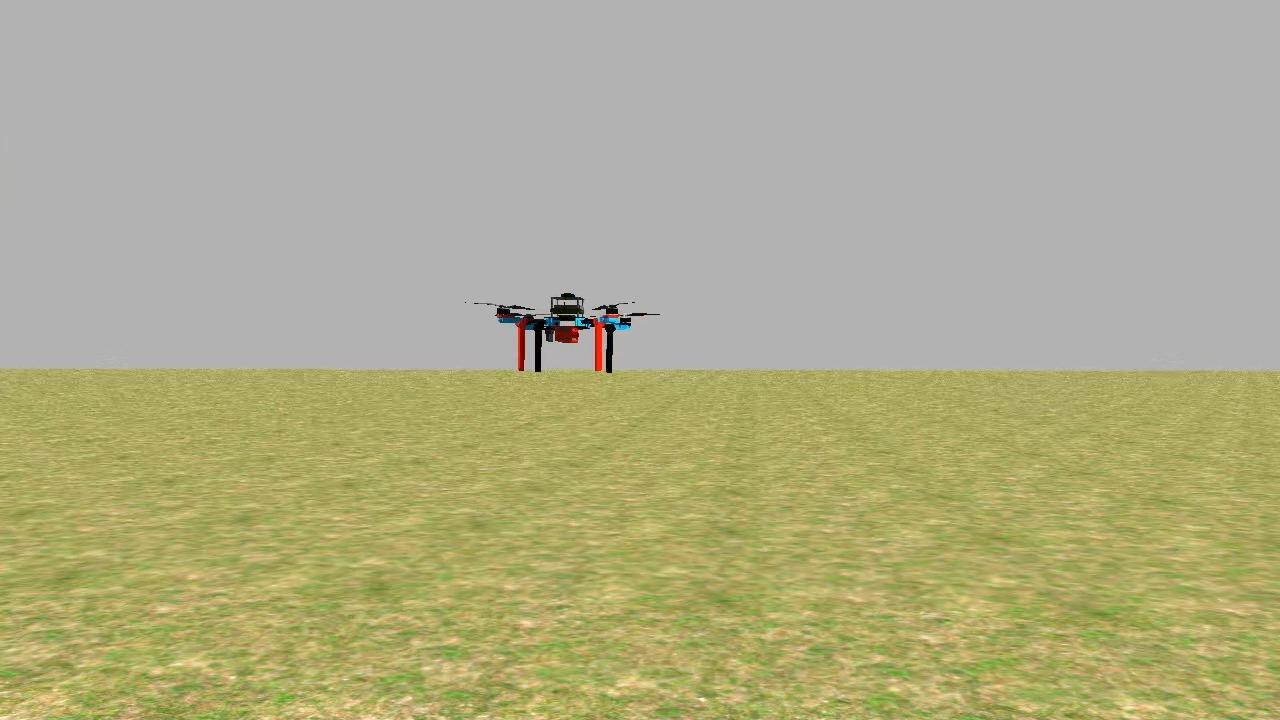UAV: (482, 284, 640, 379)
